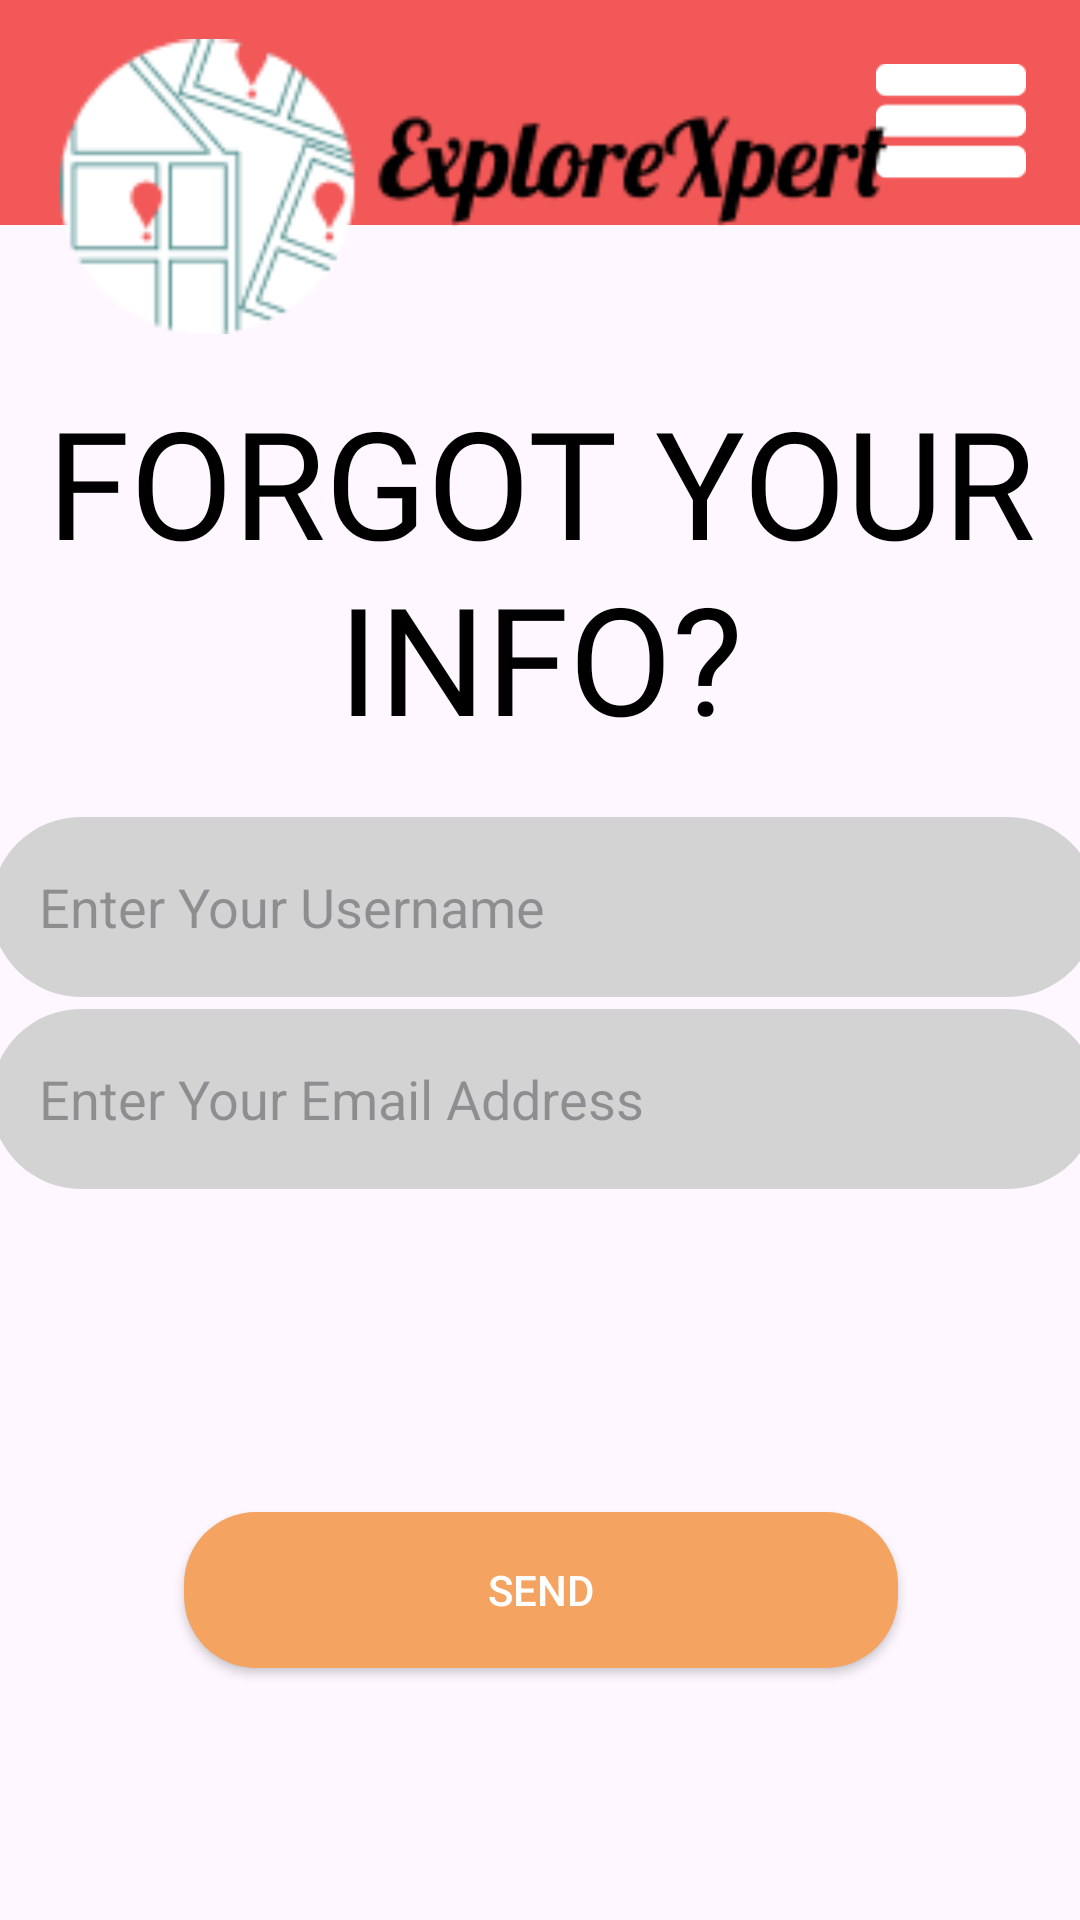

Point at icon controls on the screen. Image size 1080 × 1920, points as [x,y].
Menu Button: [951,130]
